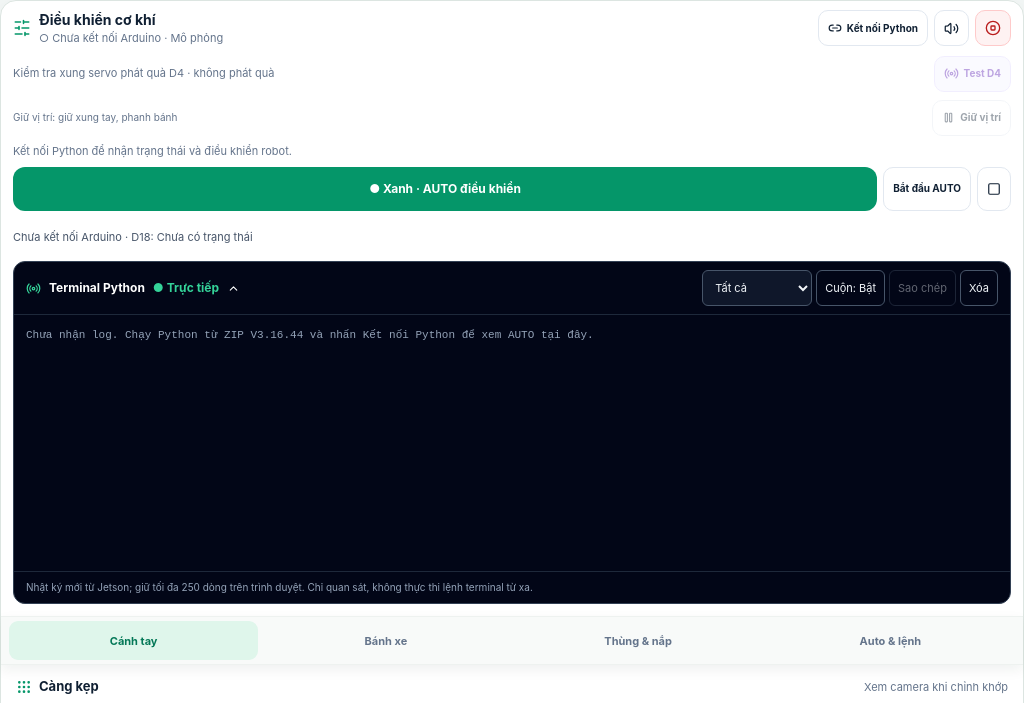
Test: Samsung contest greeting in the Vercel browser › shows audio errors without preventing the Python connection
This screenshot has width=1024, height=703.
Click the button "Kết nối Python" at (873, 28), box [818, 10, 928, 46]
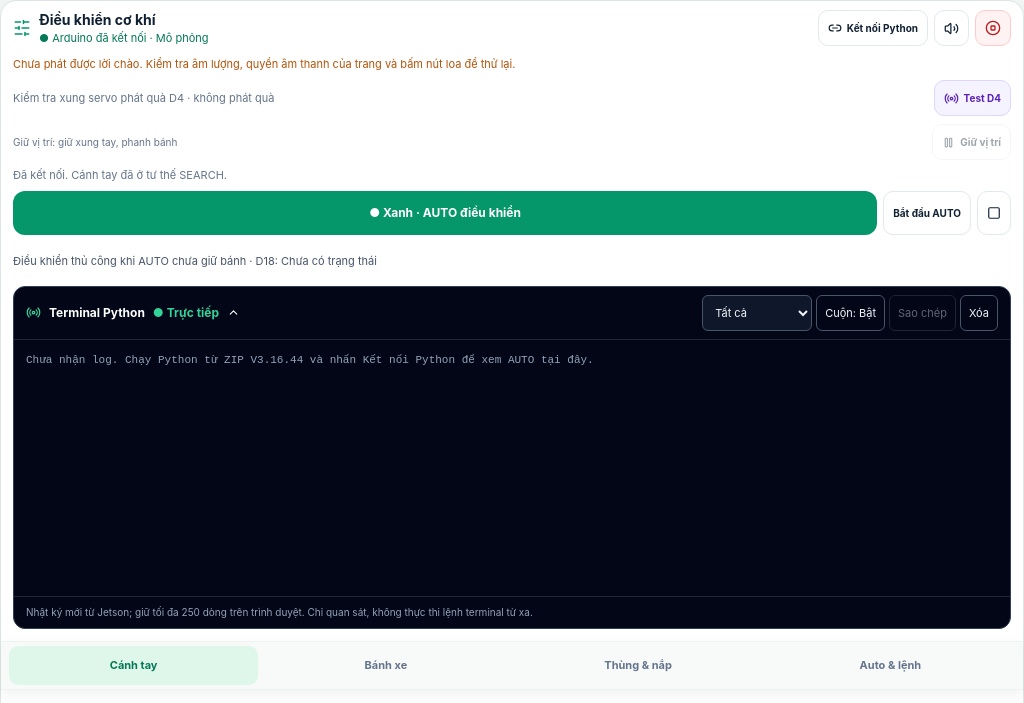
Check: the text "Chưa phát được lời chào" is shown, box [13, 56, 515, 70]
